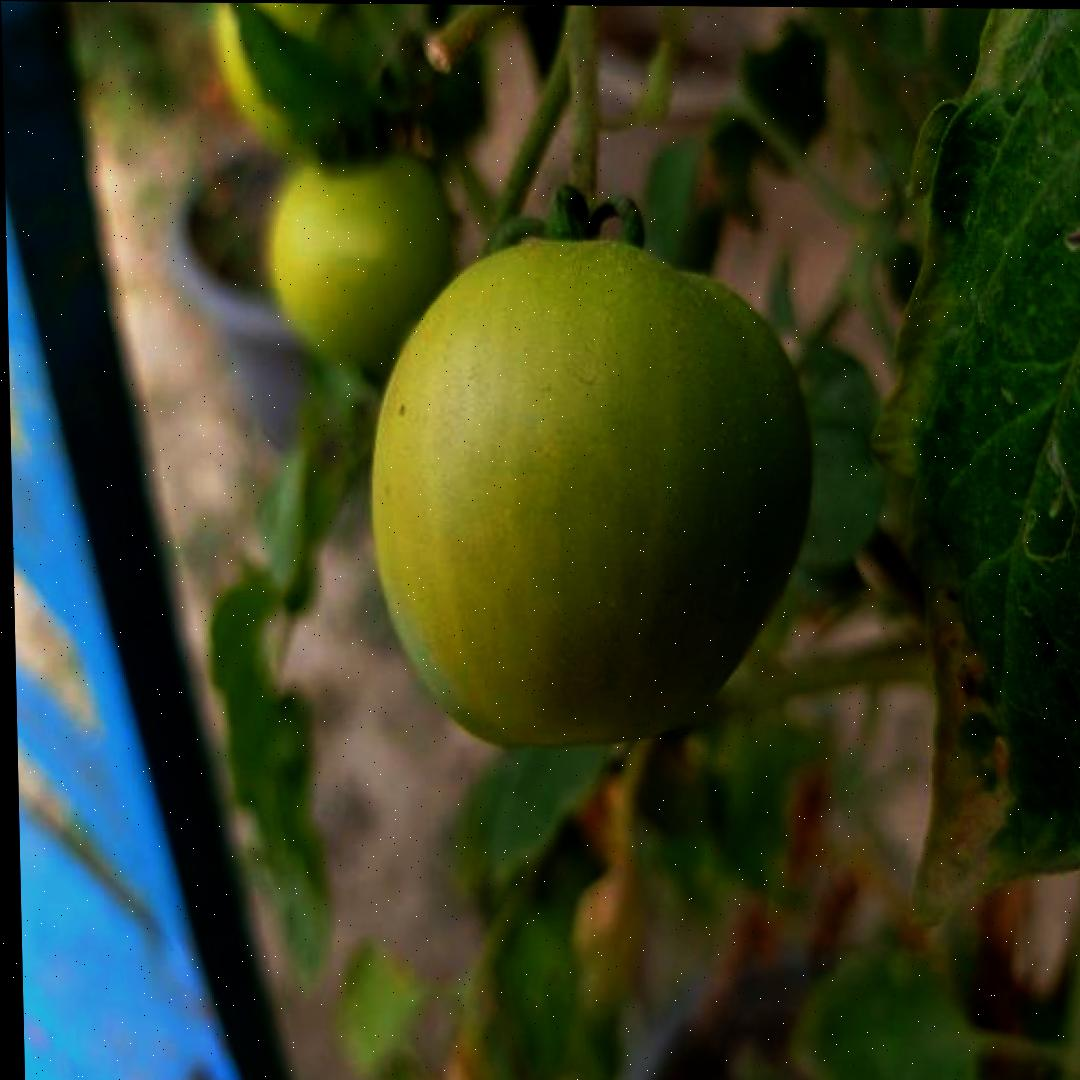mentah: (358, 229, 823, 758), (264, 146, 460, 378)
